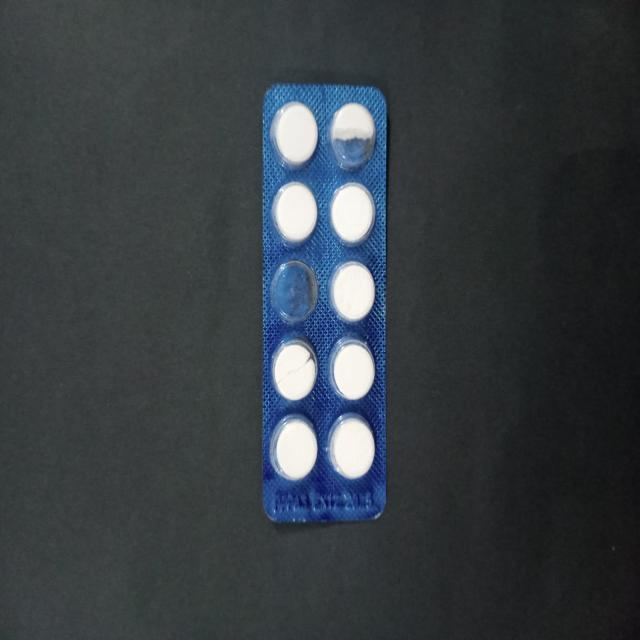defect: (326, 97, 379, 176), (267, 257, 322, 328), (270, 335, 320, 405)
